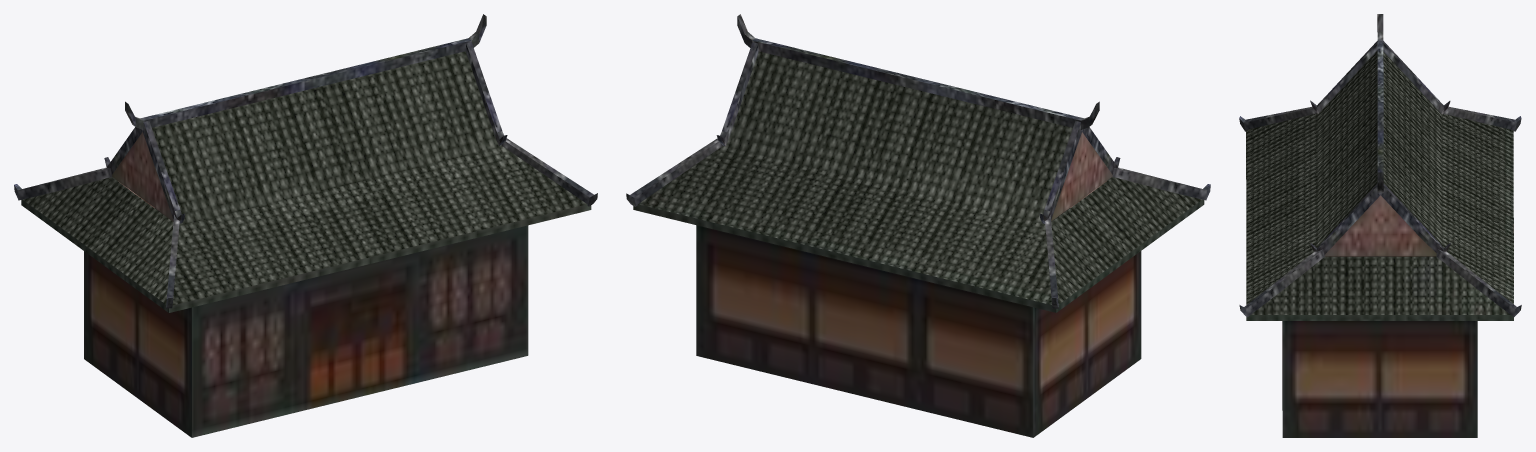
Rendered from gx3_back2.glb.
3 renders of one model, left to right at view 1: azimuth 30°, elevation 25°; view 2: azimuth 150°, elevation 25°; view 3: azimuth 270°, elevation 25°, orthographic. The views are drawn at different scales.
Parts seen in each view (by area): view 1: gx3_back2; view 2: gx3_back2; view 3: gx3_back2.
Boxes of the visible parts, x1,y1,x2,y2 form: gx3_back2: (14, 14, 597, 437); gx3_back2: (626, 14, 1210, 437); gx3_back2: (1239, 14, 1521, 437).
Size of the model in its own units: 14.44 by 9.58 by 9.08.
3 materials, 3 textured.
